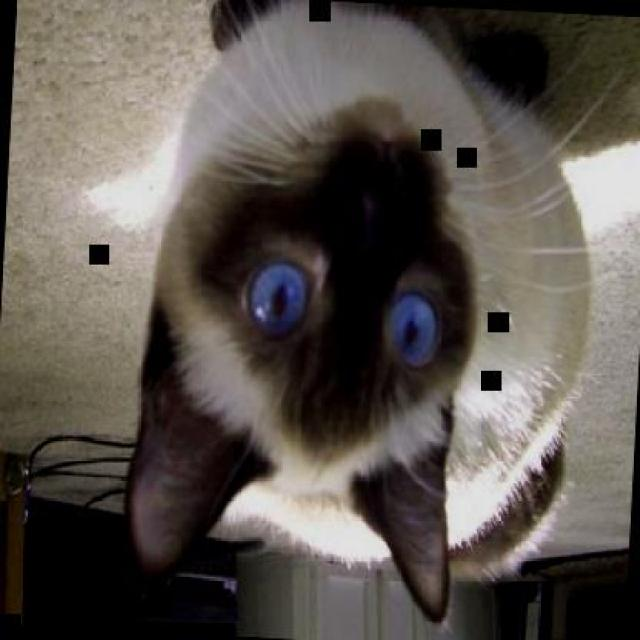cat: (118, 0, 606, 635)
